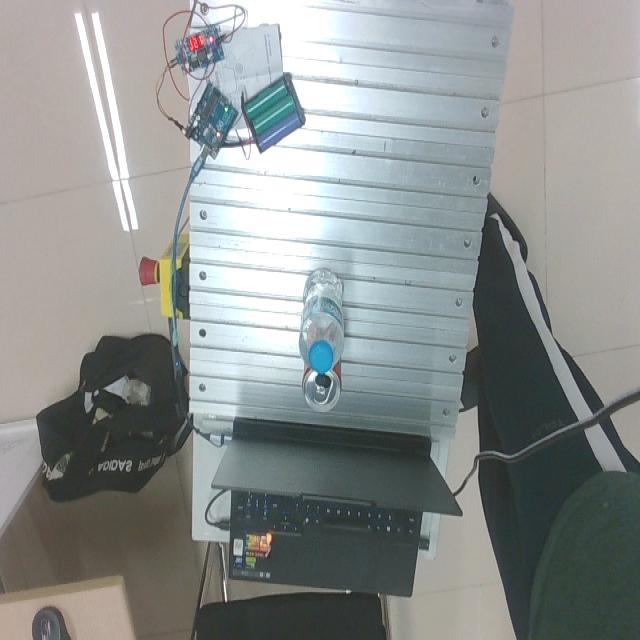coca: (302, 359, 342, 413)
lavie: (299, 270, 344, 378)
